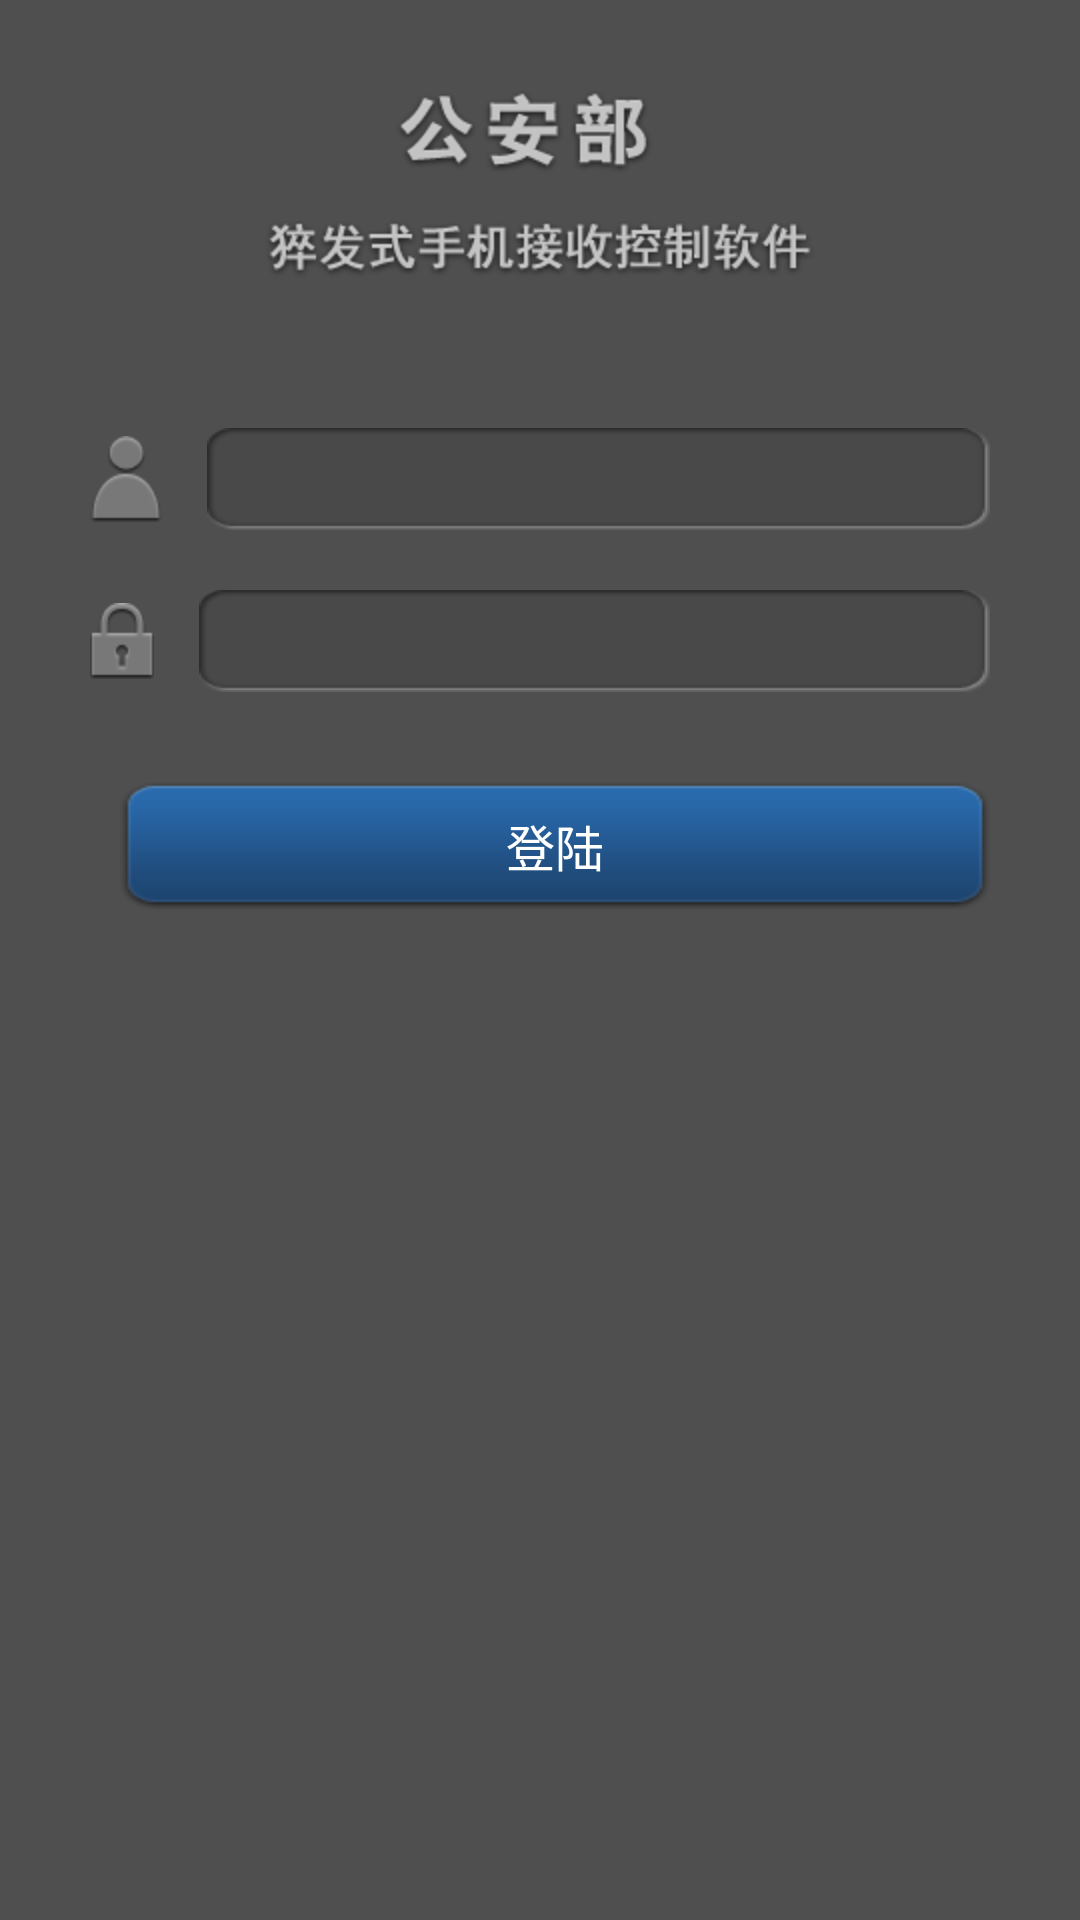

Icons on this 1080 x 1920 Android screen, each with its box as (x1, y1, x2, y2):
user name: (94, 436, 158, 521)
user pwd: (92, 603, 152, 678)
